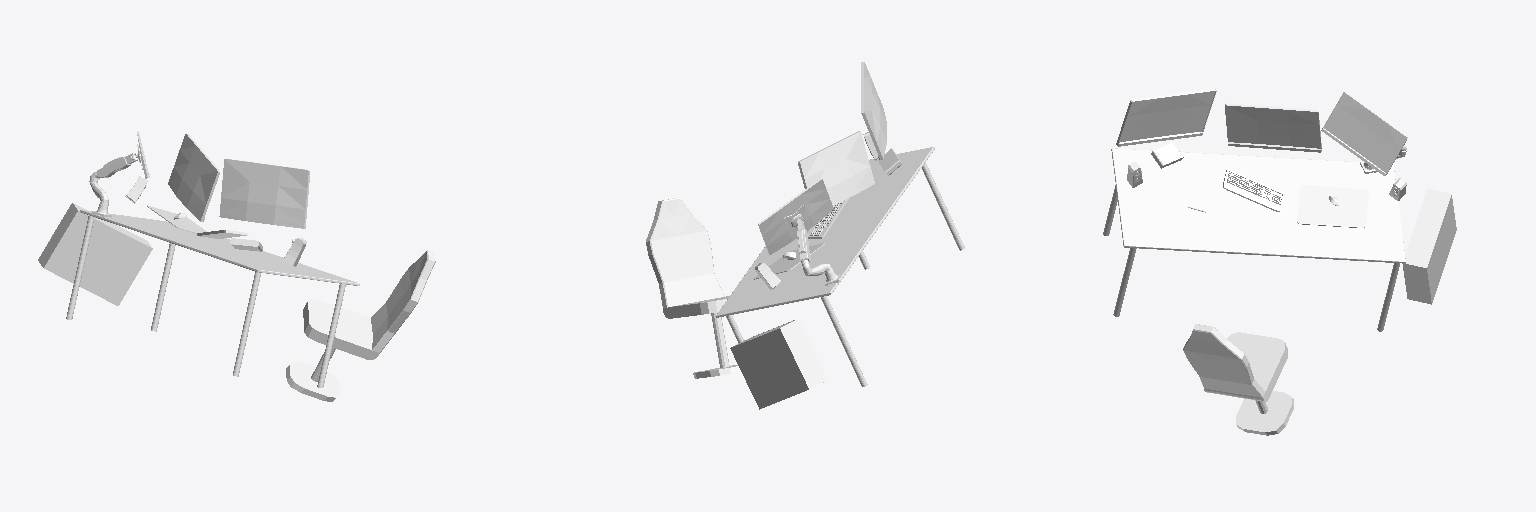
Rendered from desk_exploded.obj.
3 renders of one model, left to right at view 1: azimuth 30°, elevation 25°; view 2: azimuth 150°, elevation 25°; view 3: azimuth 270°, elevation 25°, orthographic.
Parts seen in each view (by area): view 1: group4group18group2Chair1, group4group18group2Chair1 group4group18group2Table group18group2, group4group18group2Chair1 group4group18group2Table group4group18, group4group18group2Chair1 group4group18group2Table polySurface4, group4group18group2Chair1 group4group18group2Table, group4group18group2Chair1 group4group18group2Table polySurface2; view 2: group4group18group2Chair1 group4group18group2Table, group4group18group2Chair1, group4group18group2Chair1 group4group18group2Table group4group18, group4group18group2Chair1 group4group18group2Table group18group2, group4group18group2Chair1 group4group18group2Table polySurface2, group4group18group2Chair1 group4group18group2Table polySurface4; view 3: group4group18group2Chair1 group4group18group2Table, group4group18group2Chair1 group4group18group2Table group4group18, group4group18group2Chair1, group4group18group2Chair1 group4group18group2Table group18group2, group4group18group2Chair1 group4group18group2Table polySurface2, group4group18group2Chair1 group4group18group2Table polySurface4.
Boxes of the visible parts, box(x1,y1,x2,y2) form: group4group18group2Chair1: box(286, 250, 435, 401); group4group18group2Chair1 group4group18group2Table group18group2: box(38, 203, 152, 305); group4group18group2Chair1 group4group18group2Table group4group18: box(66, 131, 345, 387); group4group18group2Chair1 group4group18group2Table polySurface4: box(219, 159, 309, 228); group4group18group2Chair1 group4group18group2Table: box(80, 210, 359, 285); group4group18group2Chair1 group4group18group2Table polySurface2: box(168, 134, 219, 221); group4group18group2Chair1 group4group18group2Table: box(716, 147, 934, 317); group4group18group2Chair1: box(646, 198, 740, 378); group4group18group2Chair1 group4group18group2Table group4group18: box(726, 132, 964, 386); group4group18group2Chair1 group4group18group2Table group18group2: box(730, 318, 827, 409); group4group18group2Chair1 group4group18group2Table polySurface2: box(798, 131, 874, 205); group4group18group2Chair1 group4group18group2Table polySurface4: box(861, 62, 886, 159); group4group18group2Chair1 group4group18group2Table: box(1111, 148, 1405, 263); group4group18group2Chair1 group4group18group2Table group4group18: box(1103, 92, 1407, 331); group4group18group2Chair1: box(1183, 324, 1293, 435); group4group18group2Chair1 group4group18group2Table group18group2: box(1402, 188, 1456, 304); group4group18group2Chair1 group4group18group2Table polySurface2: box(1225, 103, 1321, 152); group4group18group2Chair1 group4group18group2Table polySurface4: box(1116, 89, 1216, 146).
Bounding box in the file's own units: 20.93 × 20.16 × 22.21.